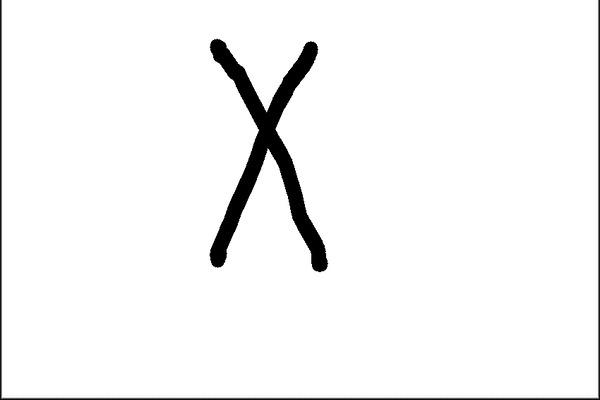Z: (189, 25, 359, 292)
